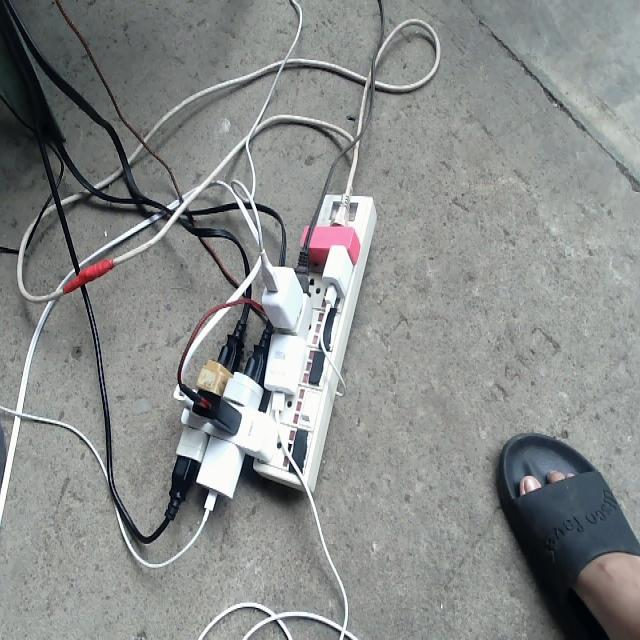-: (162, 184, 375, 525)
